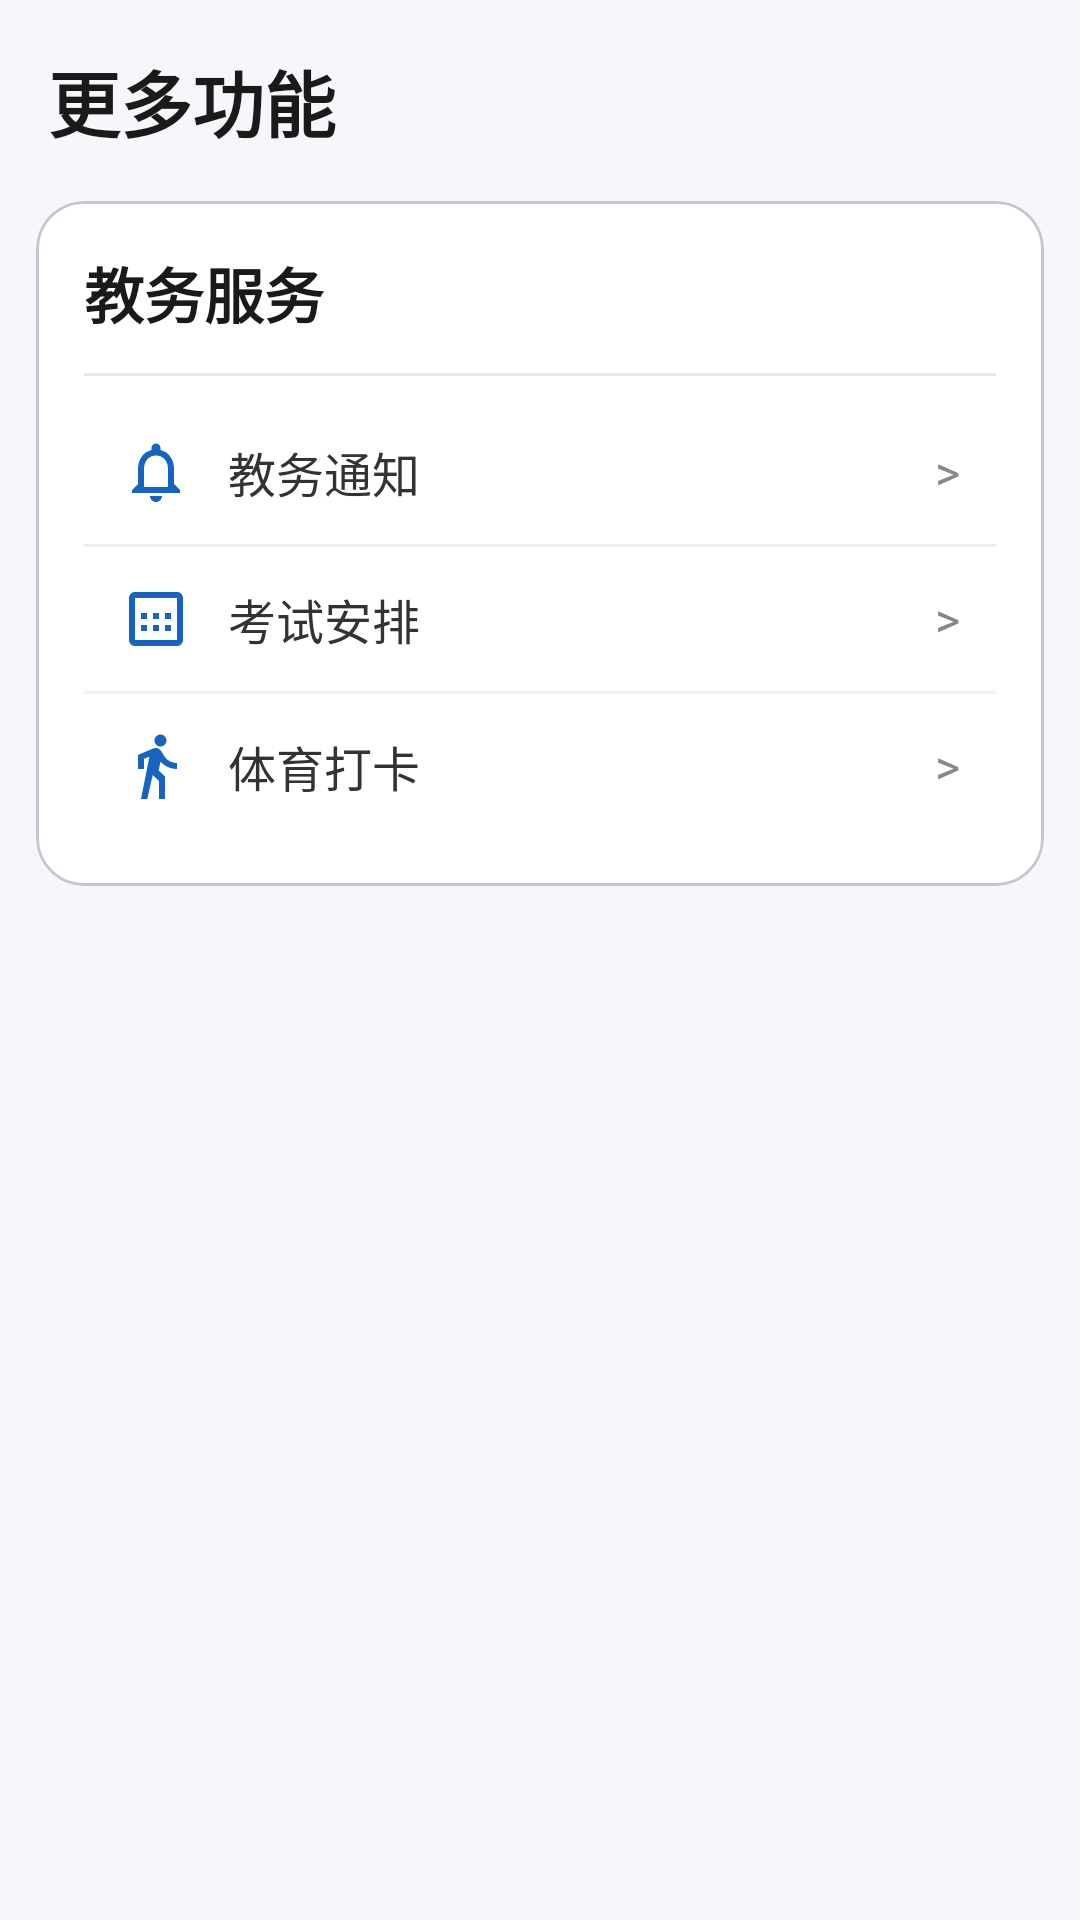

Where icons sit on this 1080×1920 app screen, as (x1, y1, x2, y2):
exam: (129, 592, 183, 646)
notice: (132, 443, 180, 502)
sports: (138, 734, 177, 799)
